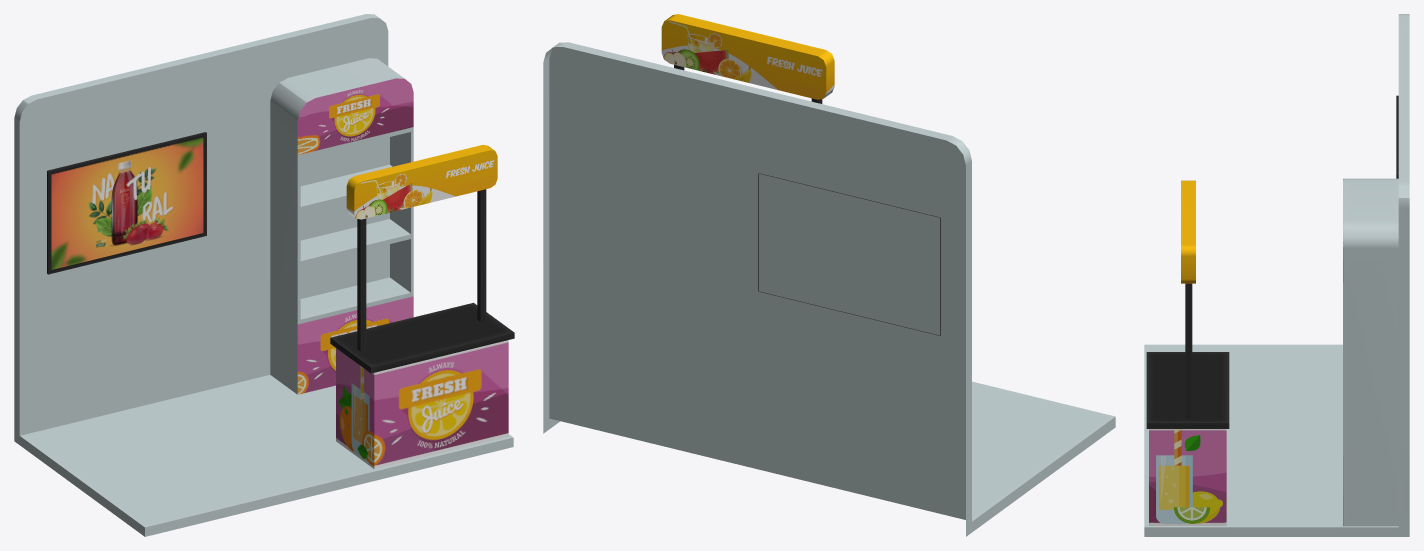
Rendered from JuiceStall.fbx.
3 views of the same model, side by side, from view 1: azimuth 30°, elevation 25°; view 2: azimuth 150°, elevation 25°; view 3: azimuth 270°, elevation 25° (orthographic). The views are drawn at different scales.
Visible parts, largest first — view 1: JuiceStall; view 2: JuiceStall; view 3: JuiceStall.
Boxes of the visible parts, bbox=[...] form: JuiceStall: bbox=[14, 14, 514, 536]; JuiceStall: bbox=[543, 14, 1115, 536]; JuiceStall: bbox=[1144, 14, 1409, 536].
Bounding box in the file's own units: 319 × 281 × 195.
